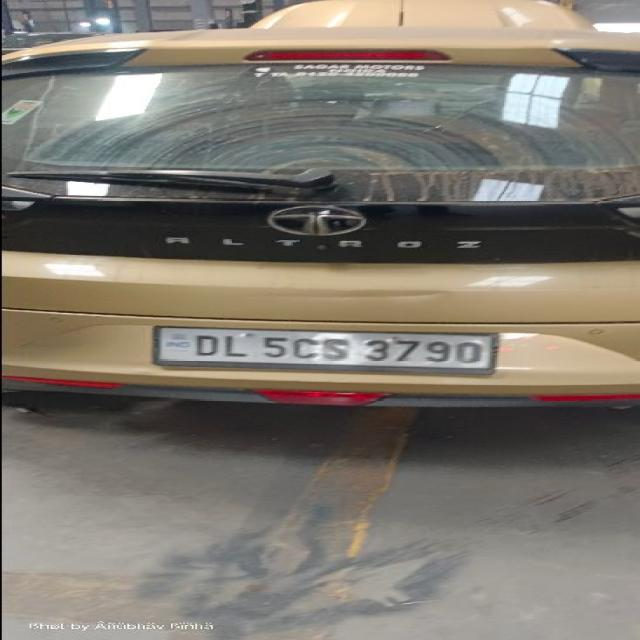license_plate: (150, 325, 499, 375)
